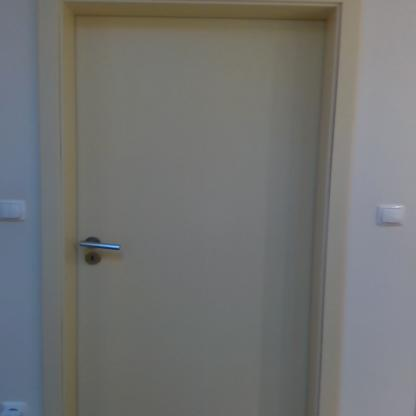door: (72, 19, 311, 416), (79, 237, 126, 256)
